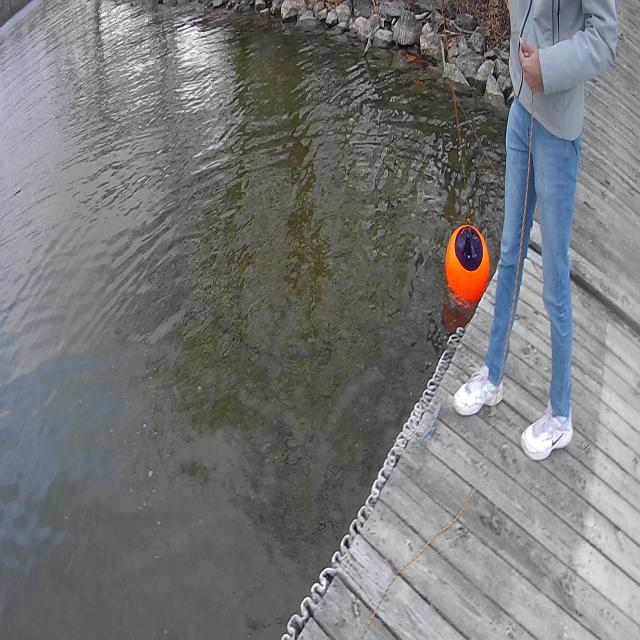Buoy: (443, 215, 493, 315)
